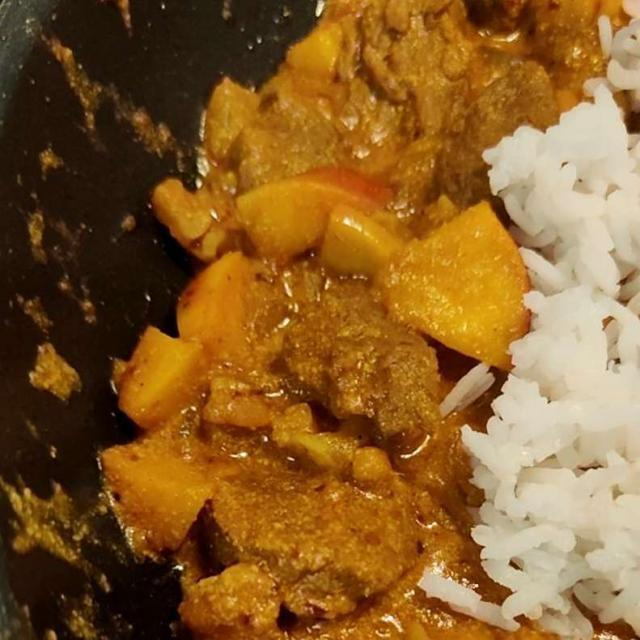chicken-curry: (111, 12, 574, 630)
rice: (476, 24, 633, 634)
